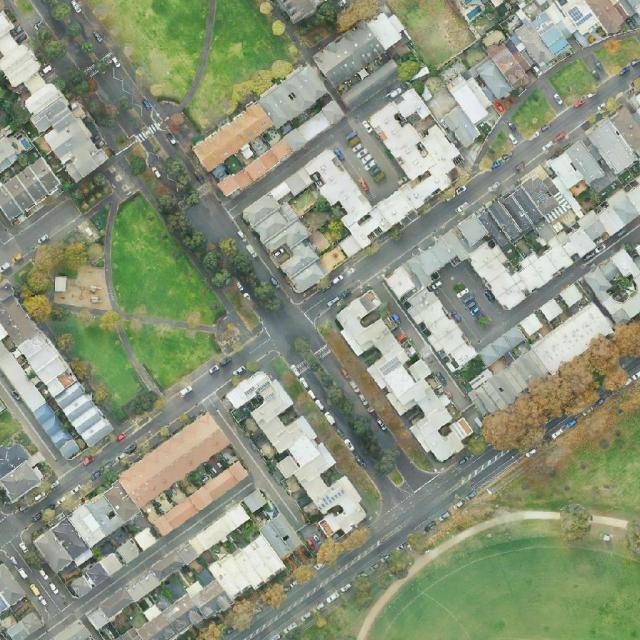building: (32, 408, 234, 580), (220, 364, 378, 544), (329, 288, 478, 468), (480, 170, 640, 312), (85, 502, 252, 633), (403, 198, 552, 340), (465, 299, 617, 422), (189, 60, 332, 179), (383, 259, 480, 376), (362, 88, 465, 195), (239, 186, 336, 298), (295, 144, 389, 258), (217, 109, 333, 201), (476, 281, 590, 374), (417, 61, 505, 152), (367, 162, 454, 233), (541, 137, 613, 210), (311, 20, 386, 89), (80, 526, 159, 590), (582, 255, 640, 327), (483, 184, 547, 246), (338, 58, 404, 112), (185, 461, 251, 512), (0, 564, 44, 640), (586, 117, 639, 176), (0, 444, 44, 502), (258, 513, 304, 561), (520, 172, 562, 218), (270, 167, 314, 207), (392, 86, 432, 128), (609, 105, 640, 157), (366, 11, 404, 51), (276, 0, 316, 23), (317, 245, 348, 274), (320, 98, 347, 126)
greenland: (73, 190, 227, 361), (144, 0, 303, 134), (291, 539, 428, 640), (42, 294, 157, 409), (148, 176, 257, 297), (87, 0, 209, 102), (118, 287, 223, 393), (4, 224, 94, 326), (307, 363, 393, 463), (309, 518, 374, 572), (157, 153, 206, 208), (66, 352, 114, 407), (550, 497, 598, 544), (53, 60, 99, 106), (242, 268, 285, 317), (0, 71, 31, 130), (295, 0, 344, 37), (289, 332, 328, 373), (372, 445, 402, 480), (393, 54, 423, 85), (466, 434, 488, 457), (626, 520, 640, 553), (56, 334, 74, 349)
metalled_road: (217, 469, 452, 640), (55, 474, 260, 632), (427, 198, 594, 352), (196, 391, 309, 535), (223, 113, 365, 217), (17, 440, 121, 527), (0, 192, 87, 273), (163, 343, 249, 418), (441, 436, 523, 506), (11, 552, 79, 628), (88, 60, 150, 128), (257, 298, 319, 361), (183, 191, 242, 254), (112, 324, 160, 396), (119, 394, 172, 441), (103, 197, 120, 312), (349, 89, 392, 125), (595, 227, 640, 260), (236, 325, 274, 363), (143, 315, 217, 333), (534, 76, 568, 115), (132, 119, 165, 146), (586, 55, 611, 82), (2, 541, 24, 566), (578, 46, 600, 70), (95, 438, 135, 451), (478, 134, 495, 160), (489, 114, 508, 132), (140, 105, 154, 125), (564, 47, 584, 60), (468, 159, 480, 174), (391, 76, 401, 88), (160, 132, 166, 139)
unmetalled_road: (485, 506, 561, 528), (592, 514, 628, 528)
